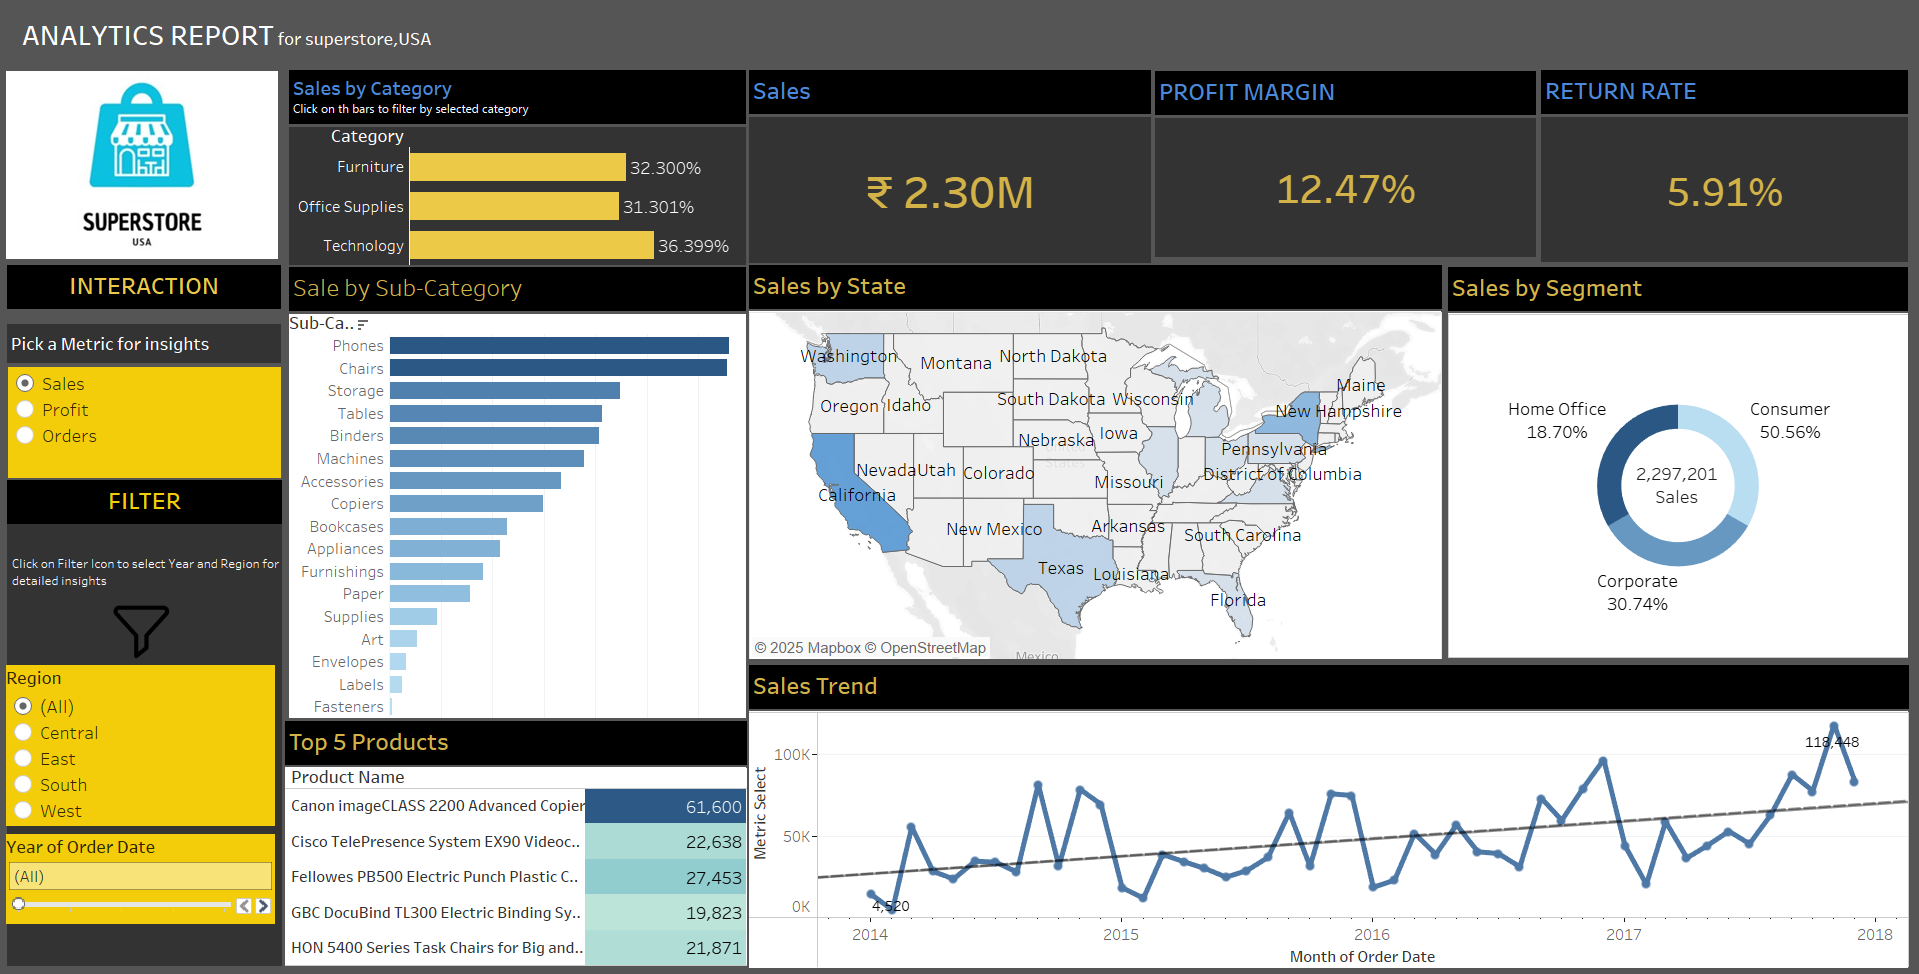

The dashboard page shown, as its layout file describes it:
{"tool":"tableau","page":{"name":"Dashboard 1","canvas":[1000,1000],"units":"permille","ordinal":0},"visuals":[{"type":"text","box":[9.6,9.2,379.1,64.5]},{"type":"worksheet","title":"Sales by Category","mark":"Automatic","rows":["Category"],"cols":["Calculation_1946962465052733446"],"box":[150.3,77.6,238.1,198.7]},{"type":"worksheet","title":"Sales","mark":"Automatic","box":[390.3,77.6,209.2,197.4]},{"type":"worksheet","title":"Return Rate","mark":"Automatic","box":[802.8,77.6,191.2,196.1]},{"type":"image","param":"Image/Picture1.jpg","box":[3,79,141.7,192.1]},{"type":"worksheet","title":"Profit Margin","mark":"Automatic","box":[601.3,79,198.4,194.7]},{"type":"worksheet","title":"Sheet 17","mark":"Automatic","box":[3.6,276.3,142.9,189.5]},{"type":"worksheet","title":"Sales by State","mark":"Automatic","box":[390.3,276.3,360.8,402.6]},{"type":"worksheet","title":"Sale by Sub-Category","mark":"Automatic","rows":["Sub-Category"],"cols":["Sales"],"box":[150.3,278.9,238.1,460.5]},{"type":"worksheet","title":"Sales by Segment","mark":"Pie","rows":["Calculation_1946962465085812745","Calculation_1946962465085812745"],"box":[754.1,278.9,239.9,398.7]},{"type":"text","box":[3.6,336.8,142.8,39.5]},{"type":"parameter","param":"[Parameters].[Parameter 3]","box":[4.2,380.3,142.3,113.2]},{"type":"worksheet","title":"Sheet 18","mark":"Automatic","box":[3.6,496.1,143.5,496.1]},{"type":"text","box":[4.4,557.9,143.5,63.2]},{"type":"dashboard-object","box":[3.1,615.8,140.6,67.1]},{"type":"filter","title":"Trend line","param":"[federated.03tbgzp0vpasua17doc4a1ew51la].[none:Region:nk]","box":[1.2,680.3,144.3,185.5]},{"type":"worksheet","title":"Trend line","mark":"Line","rows":["Calculation_1946962465052733446","Calculation_1946962465052733446"],"cols":["Order Date"],"box":[390.1,684.2,604.3,309.2]},{"type":"worksheet","title":"Top 5 Products","mark":"Square","rows":["Product Name"],"box":[148.5,742.1,240.5,250]},{"type":"filter","title":"Trend line","param":"[federated.03tbgzp0vpasua17doc4a1ew51la].[yr:Order Date:ok]","box":[1.2,865.8,144.3,128.9]}]}

Visuals, with their boxes on the dashboard's canvas, which has no fixed pixel size, in thousandths of its width and height (x1, y1, x2, y2). These are canvas units, not pixel positions in the 1919x974 screenshot, which may show the page scaled, cropped or inside an application window:
text: box(10, 9, 389, 74)
"Sales by Category" worksheet: box(150, 78, 388, 276)
"Sales" worksheet: box(390, 78, 600, 275)
"Return Rate" worksheet: box(803, 78, 994, 274)
image: box(3, 79, 145, 271)
"Profit Margin" worksheet: box(601, 79, 800, 274)
"Sheet 17" worksheet: box(4, 276, 146, 466)
"Sales by State" worksheet: box(390, 276, 751, 679)
"Sale by Sub-Category" worksheet: box(150, 279, 388, 739)
"Sales by Segment" worksheet (Pie marks): box(754, 279, 994, 678)
text: box(4, 337, 146, 376)
parameter: box(4, 380, 146, 494)
"Sheet 18" worksheet: box(4, 496, 147, 992)
text: box(4, 558, 148, 621)
dashboard-object: box(3, 616, 144, 683)
"Trend line" filter: box(1, 680, 146, 866)
"Trend line" worksheet (Line marks): box(390, 684, 994, 993)
"Top 5 Products" worksheet (Square marks): box(148, 742, 389, 992)
"Trend line" filter: box(1, 866, 146, 995)
